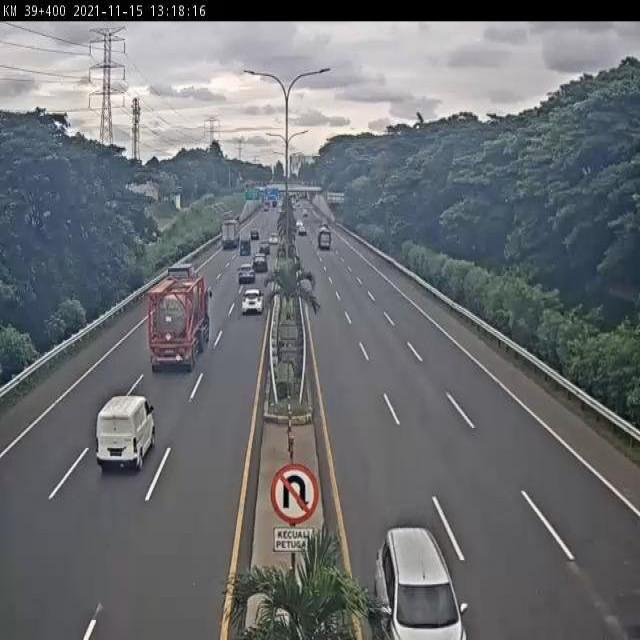bus-s-: (96, 395, 157, 468)
car: (241, 287, 264, 313), (237, 263, 256, 284)
truck-xl-: (150, 274, 209, 370)
